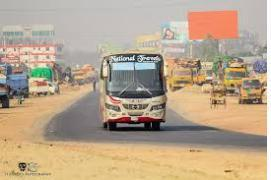bus: (97, 51, 168, 131)
